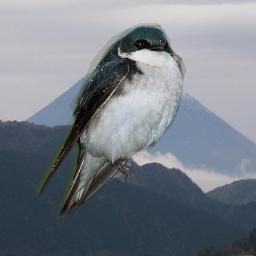Swallow: (37, 19, 188, 218)
